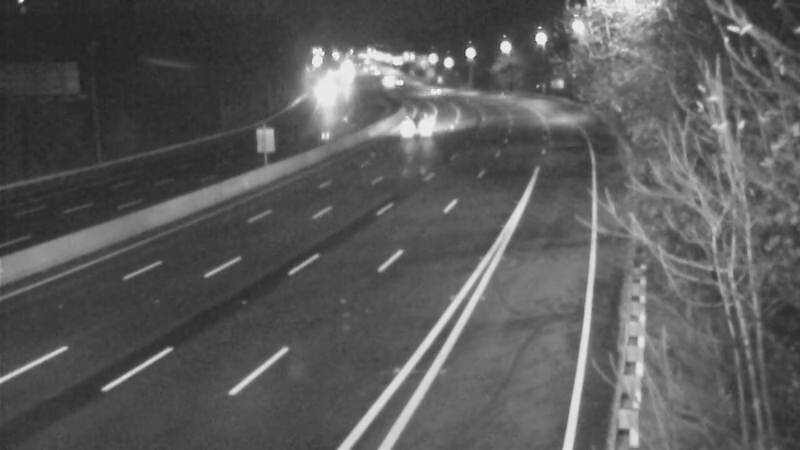vehicle: (360, 55, 410, 105), (406, 64, 456, 114), (393, 99, 443, 149)
